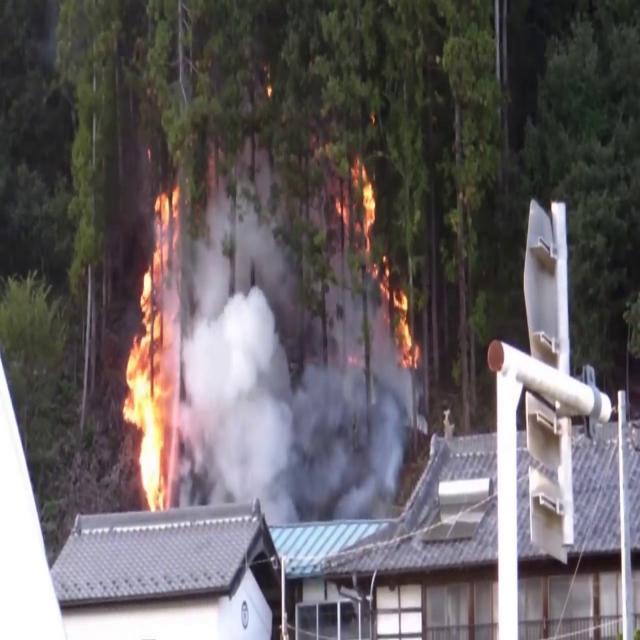Fire: (119, 178, 184, 512), (345, 159, 382, 272), (384, 266, 419, 374)
Smoke: (172, 200, 414, 564)
